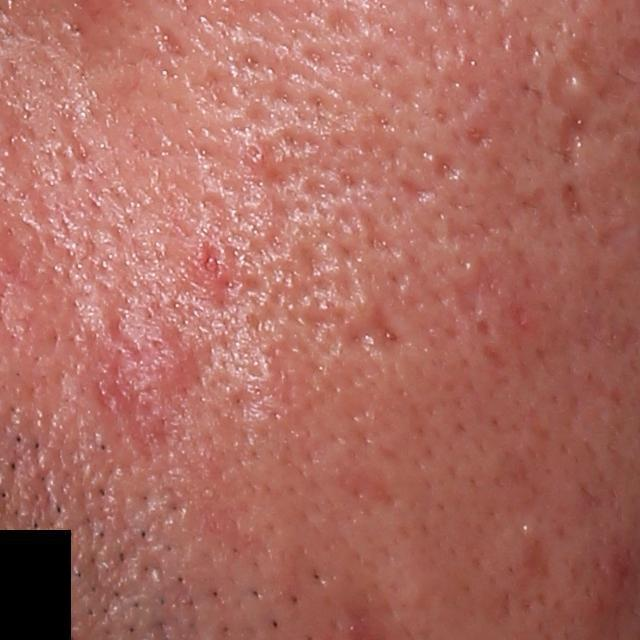atrophic_scar: (547, 63, 599, 174), (443, 248, 513, 327), (569, 44, 635, 112), (178, 67, 247, 125), (343, 296, 411, 354), (152, 18, 191, 68), (561, 179, 595, 226), (328, 5, 371, 41), (399, 173, 443, 205), (463, 121, 494, 152)
hypertrophic_scar: (560, 70, 594, 109)
papule: (144, 343, 204, 396)
